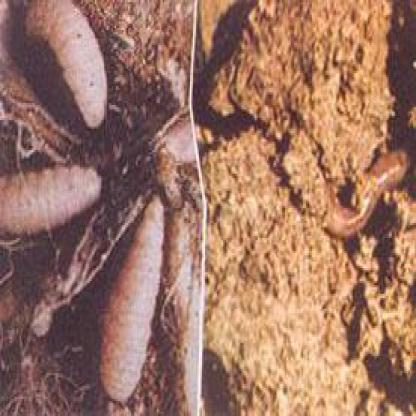whorl-maggot: (88, 186, 176, 410), (21, 0, 123, 125), (0, 164, 110, 244)
